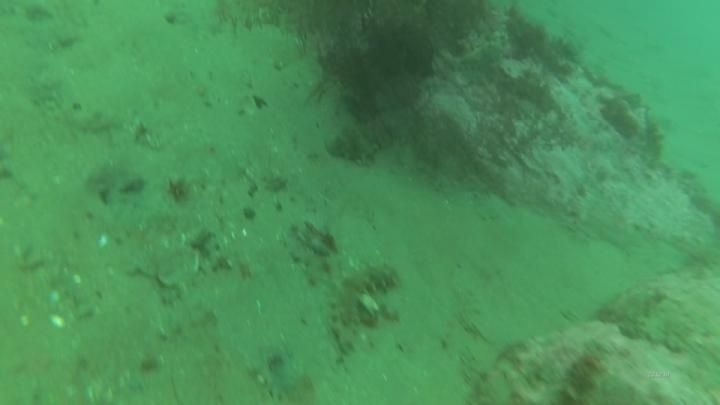holothurian: (324, 257, 401, 357), (324, 110, 397, 168)
